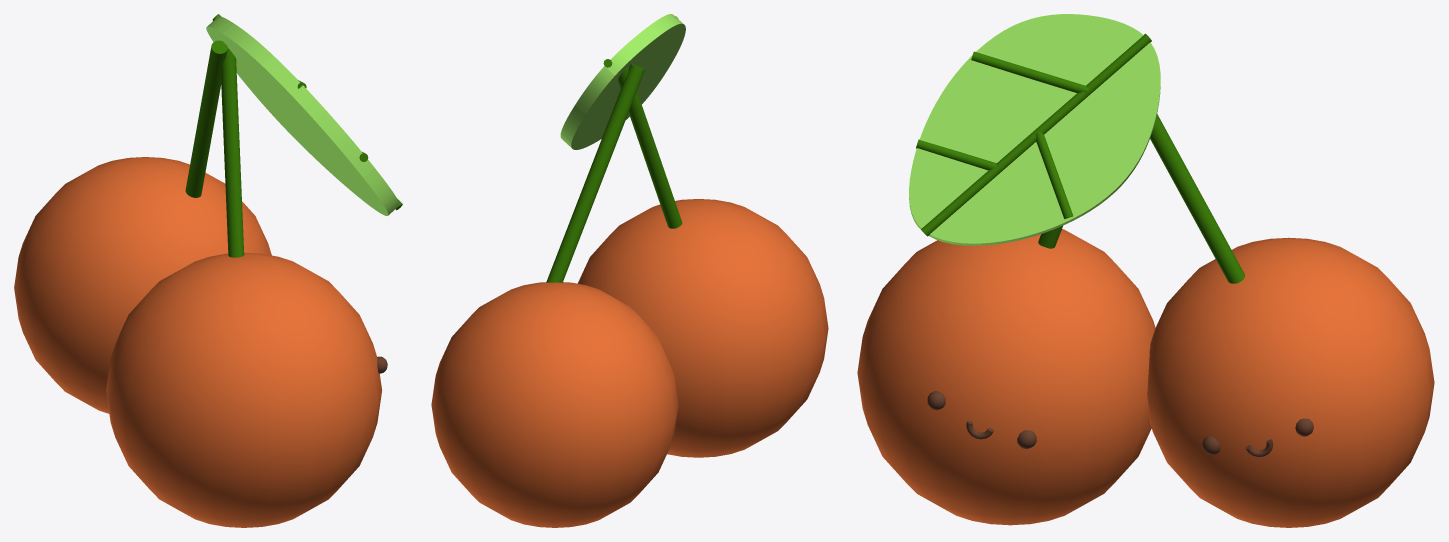
Rendered from Cherry.fbx.
The picture shows the model from 3 angles, left to right: view 1: azimuth 30°, elevation 25°; view 2: azimuth 150°, elevation 25°; view 3: azimuth 270°, elevation 25°; orthographic projection. The views are drawn at different scales.
Parts seen in each view (by area): view 1: Yintao_16, Yintao_15, 封顶_2, Yintao_6, Yintao_7, Yintao_8; view 2: Yintao_15, Yintao_16, Yintao_8, 封顶_2, Yintao_6, Yintao_7; view 3: Yintao_16, Yintao_15, 封顶_1, Yintao_8, Yintao_4, Yintao_3, Yintao, Yintao_2, Yintao_6.
Part boxes in pixels (x1=…): Yintao_16: x1=106, y1=252, x2=382, y2=527; Yintao_15: x1=14, y1=157, x2=271, y2=413; 封顶_2: x1=206, y1=26, x2=388, y2=215; Yintao_6: x1=207, y1=16, x2=399, y2=215; Yintao_7: x1=220, y1=47, x2=244, y2=257; Yintao_8: x1=185, y1=40, x2=227, y2=197; Yintao_15: x1=431, y1=282, x2=678, y2=527; Yintao_16: x1=577, y1=199, x2=828, y2=457; Yintao_8: x1=546, y1=64, x2=644, y2=282; 封顶_2: x1=571, y1=23, x2=685, y2=149; Yintao_6: x1=560, y1=14, x2=682, y2=147; Yintao_7: x1=617, y1=66, x2=682, y2=228; Yintao_16: x1=857, y1=229, x2=1155, y2=525; Yintao_15: x1=1147, y1=237, x2=1434, y2=527; 封顶_1: x1=909, y1=14, x2=1160, y2=243; Yintao_8: x1=1150, y1=114, x2=1244, y2=283; Yintao_4: x1=921, y1=33, x2=1151, y2=236; Yintao_3: x1=971, y1=51, x2=1088, y2=93; Yintao: x1=1035, y1=132, x2=1073, y2=219; Yintao_2: x1=916, y1=139, x2=999, y2=170; Yintao_6: x1=909, y1=87, x2=1160, y2=245.
Size of the model in its own units: 388 by 650 by 666.
